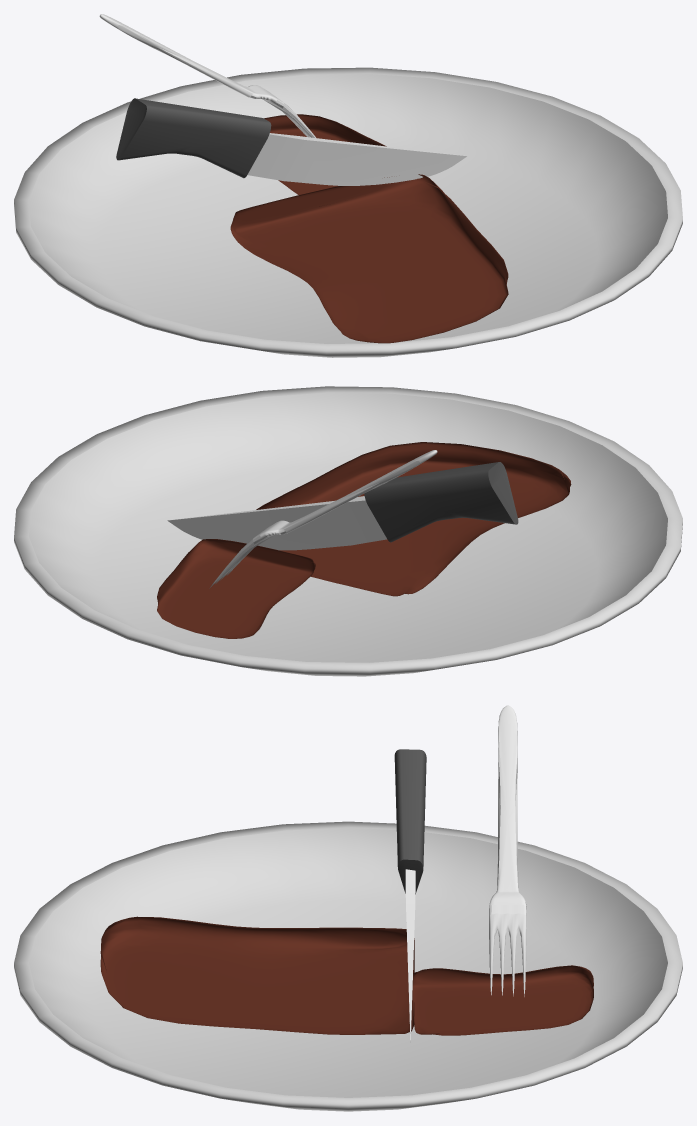
Rendered from TableMeatKnife.glb.
The picture shows the model from 3 angles, top to bottom: view 1: azimuth 30°, elevation 25°; view 2: azimuth 150°, elevation 25°; view 3: azimuth 270°, elevation 25°; orthographic projection.
Parts seen in each view (by area): view 1: Cylinder.009, Cube.005, Cube.002, Cube.008, Cube.006, Cube.007; view 2: Cylinder.009, Cube.005, Cube.006, Cube.002, Cube.008, Cube.007; view 3: Cylinder.009, Cube.005, Cube.006, Cube.007, Cube.002, Cube.008.
Boxes of the visible parts, left/top/right/bottom form: Cylinder.009: left=14, top=67, right=682, bottom=357; Cube.005: left=230, top=174, right=508, bottom=343; Cube.002: left=116, top=98, right=271, bottom=178; Cube.008: left=247, top=133, right=467, bottom=185; Cube.006: left=264, top=114, right=386, bottom=206; Cube.007: left=99, top=14, right=315, bottom=137; Cylinder.009: left=14, top=386, right=682, bottom=676; Cube.005: left=256, top=442, right=571, bottom=596; Cube.006: left=157, top=539, right=315, bottom=638; Cube.002: left=364, top=462, right=518, bottom=542; Cube.008: left=167, top=496, right=386, bottom=550; Cube.007: left=209, top=450, right=437, bottom=588; Cylinder.009: left=14, top=821, right=682, bottom=1111; Cube.005: left=100, top=916, right=414, bottom=1034; Cube.006: left=412, top=965, right=593, bottom=1035; Cube.007: left=489, top=705, right=526, bottom=996; Cube.002: left=394, top=749, right=426, bottom=894; Cube.008: left=405, top=869, right=415, bottom=1042.
Size of what is drawn, in the model's own units: 2.47 by 0.8926 by 2.47.
